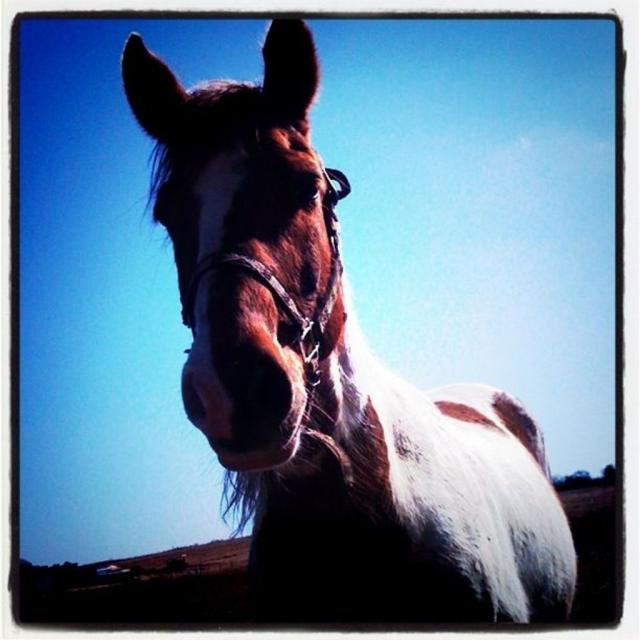Horse: (113, 22, 577, 605)
